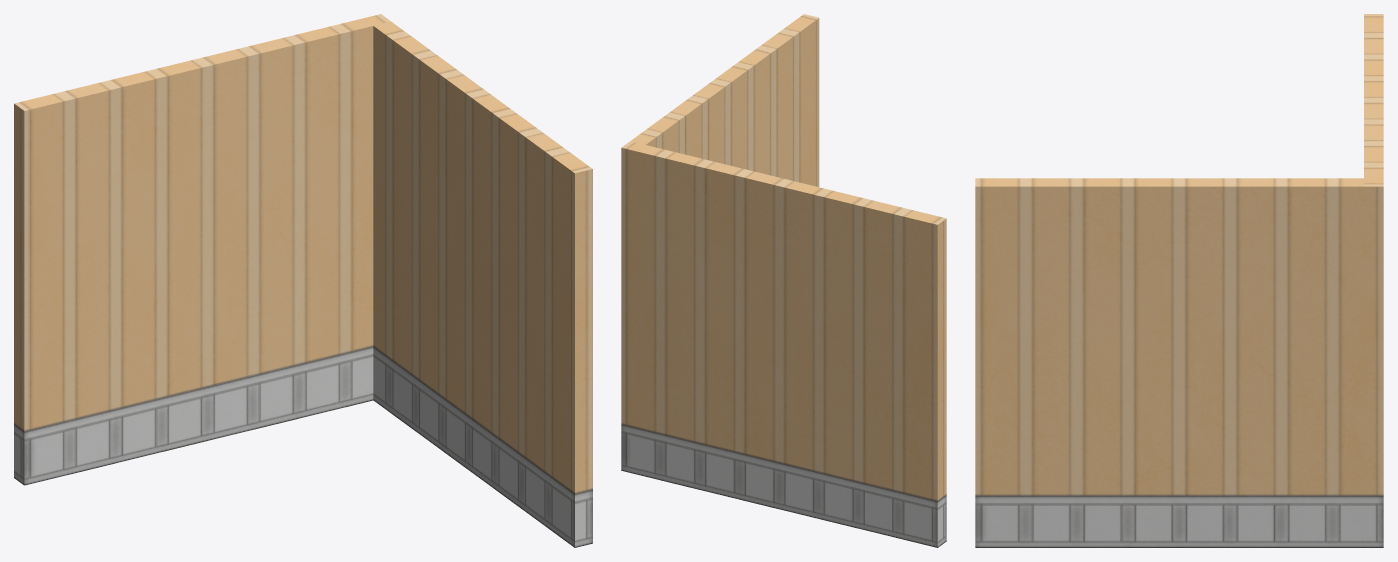
Rendered from Wall_8_Corner_A.fbx.
3 views of the same model, side by side, from view 1: azimuth 30°, elevation 25°; view 2: azimuth 150°, elevation 25°; view 3: azimuth 270°, elevation 25° (orthographic). The views are drawn at different scales.
Visible parts, largest first — view 1: polySurface52; view 2: polySurface52; view 3: polySurface52.
Boxes of the visible parts, box(x1,y1,x2,y2) form: polySurface52: box(14, 14, 592, 547); polySurface52: box(621, 14, 946, 547); polySurface52: box(975, 14, 1383, 547).
Size of the model in its own units: 4.1 by 4 by 4.1.
